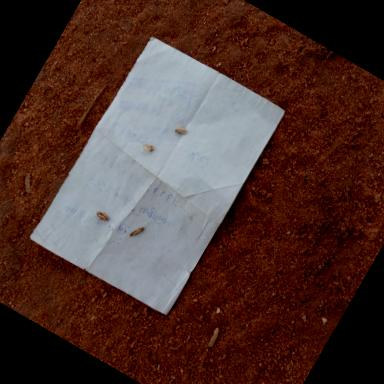pbw: (92, 208, 110, 225), (128, 223, 144, 241), (174, 122, 188, 138), (140, 140, 155, 154)
